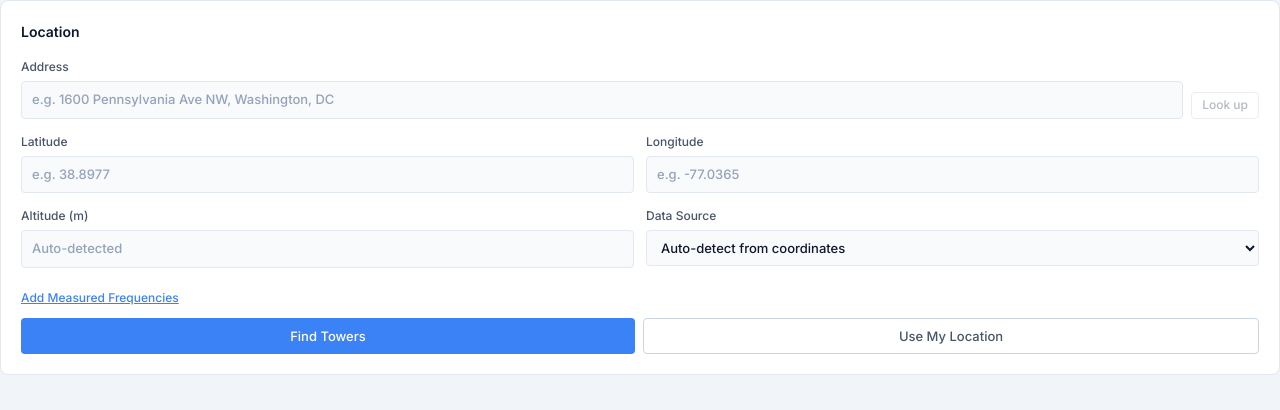
Test: SearchForm address lookup › fills the coordinates from the match and names what it matched
Type "1600 Pennsylvania Ave NW, Washington, DC" into the field labelled "Address" at (602, 100), box [21,81,1183,118]
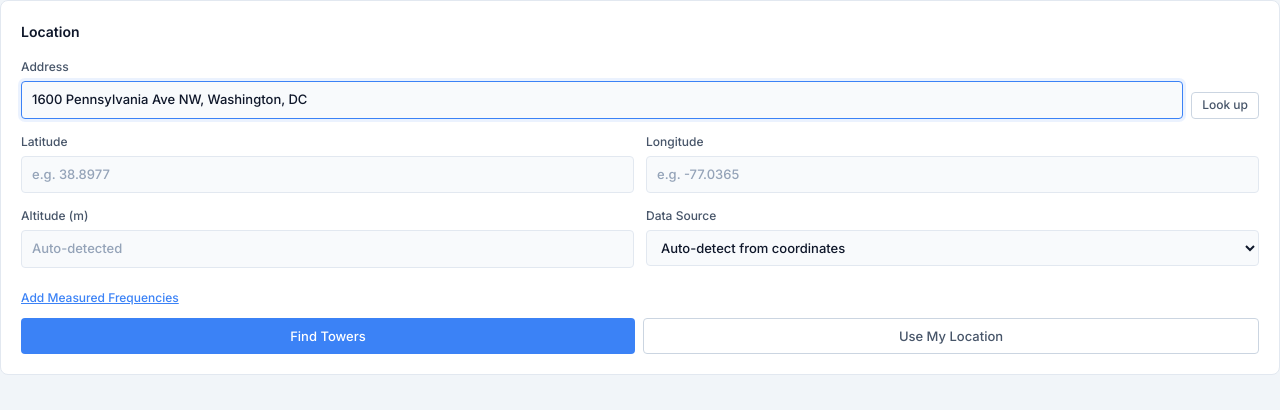
Click the button "Look up" at (1225, 105), box [1191,92,1259,118]
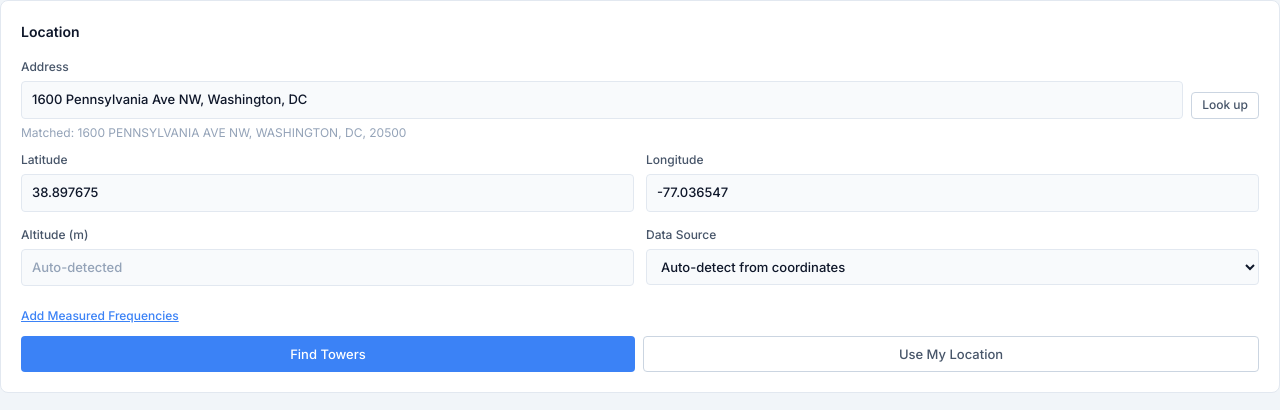
Result: the number field labelled "Latitude" holds "38.897675" at [21,174,634,212]
Result: the number field labelled "Longitude" holds "-77.036547" at [646,174,1259,212]
